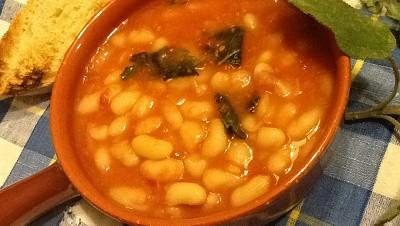RajmaCurry: (71, 0, 336, 218)
